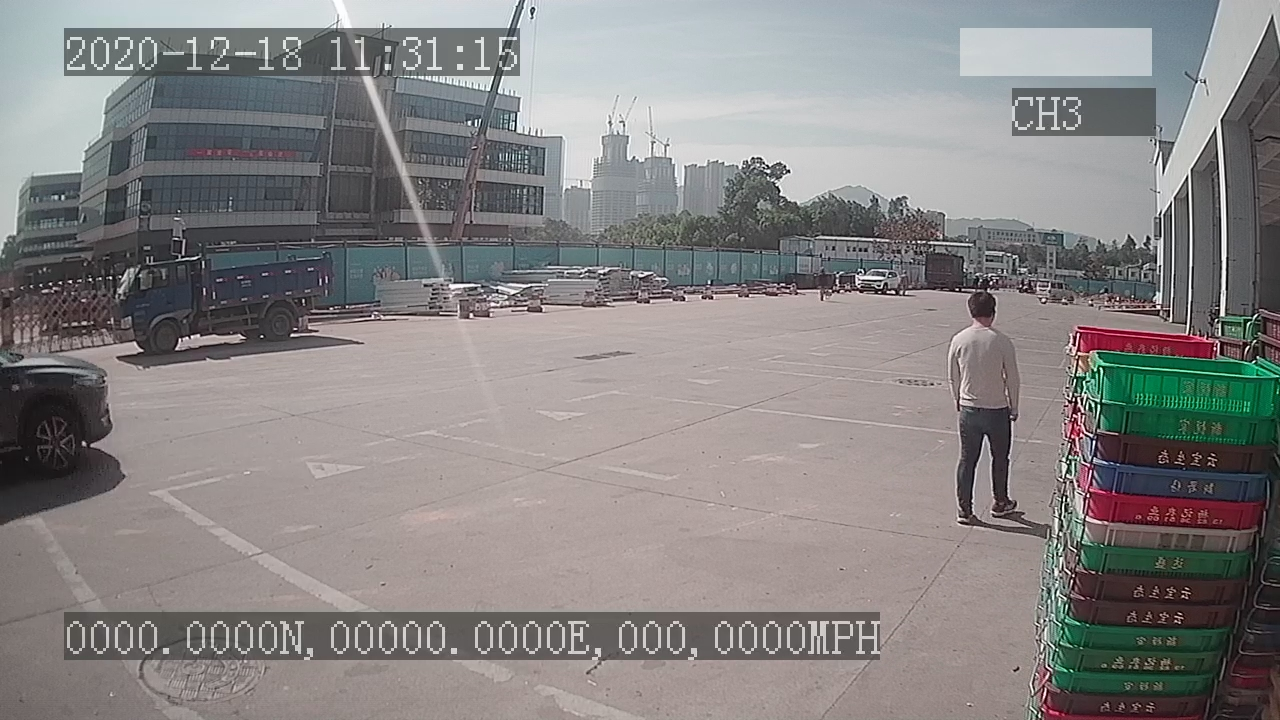person: (944, 294, 1026, 524)
